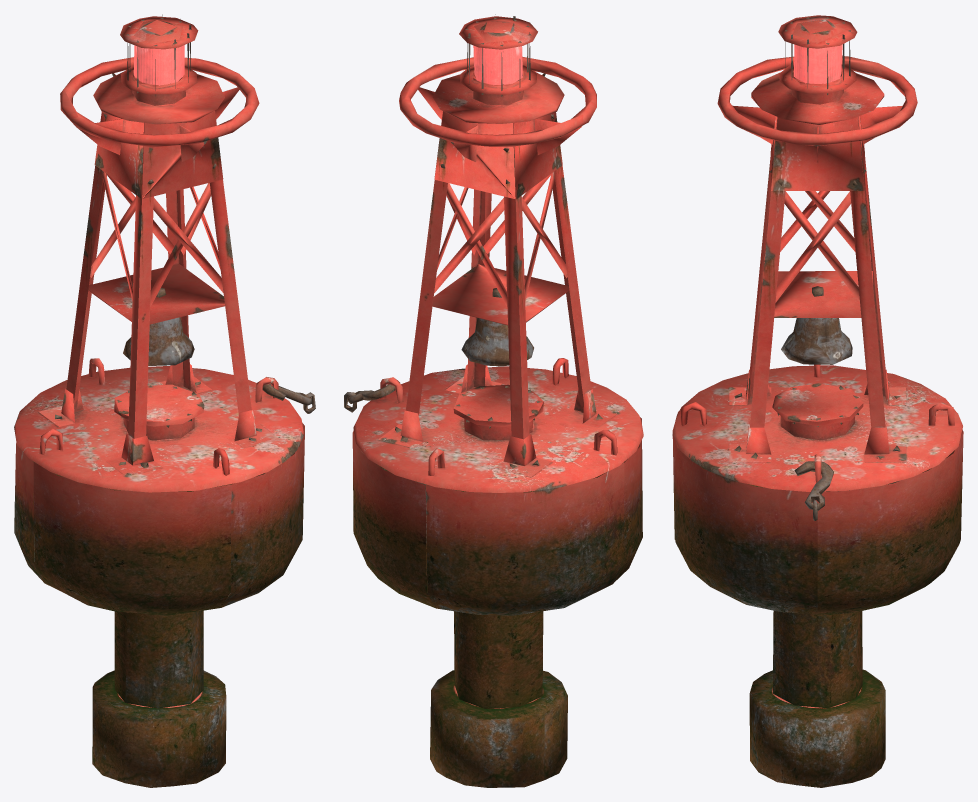
Rendered from ocean_buoy_1k.fbx.
3 renders of one model, left to right at view 1: azimuth 30°, elevation 25°; view 2: azimuth 150°, elevation 25°; view 3: azimuth 270°, elevation 25°, orthographic.
Visible parts, largest first — view 1: ocean_buoy; view 2: ocean_buoy; view 3: ocean_buoy.
Boxes of the visible parts, x1,y1,x2,y2 form: ocean_buoy: (14,14,315,787); ocean_buoy: (344,14,643,787); ocean_buoy: (672,15,963,787).
Bounding box in the file's own units: 107 × 266 × 95.5.
Materials: 1 (1 with a texture image).
